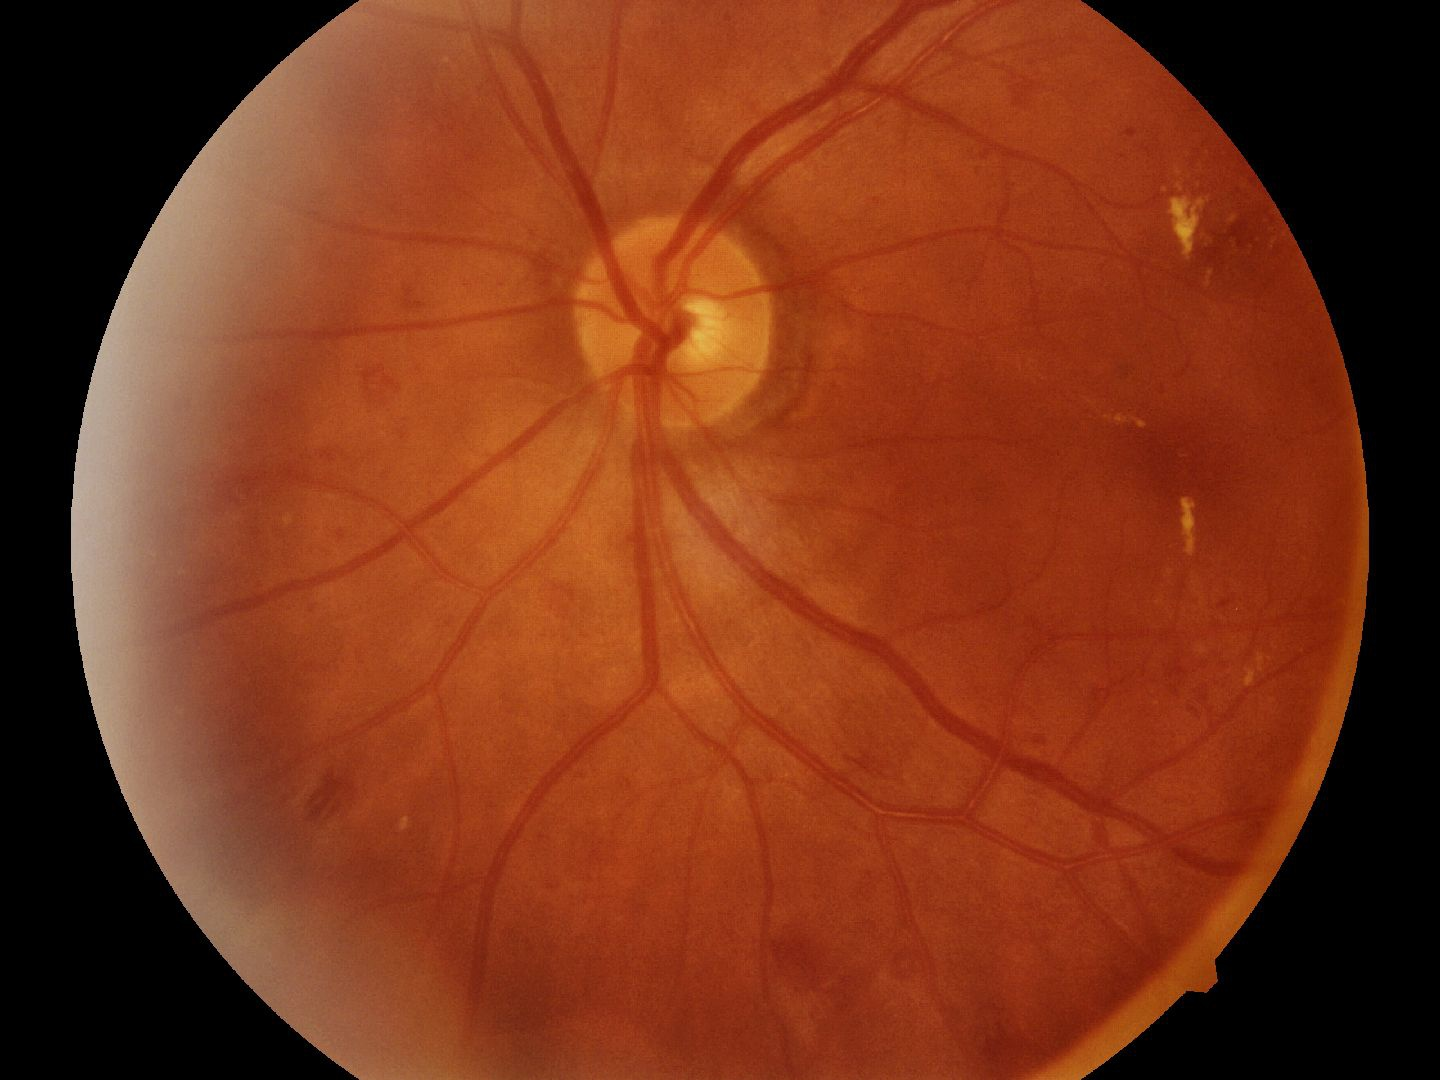Exudates: (1151, 164, 1242, 265), (1169, 471, 1208, 556)
Optic-Disc: (559, 217, 794, 438)
Venules: (727, 534, 1090, 857)
